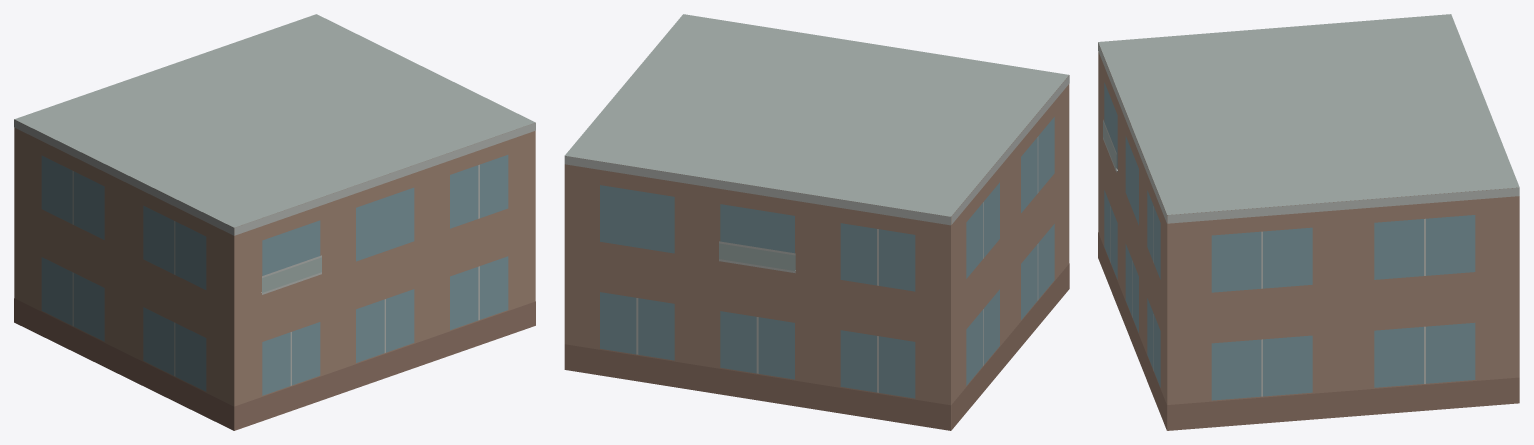
Rendered from survey-upis-32606958.glb.
3 views of the same model, side by side, from view 1: azimuth 30°, elevation 25°; view 2: azimuth 150°, elevation 25°; view 3: azimuth 270°, elevation 25° (orthographic). The views are drawn at different scales.
Visible parts, largest first — view 1: survey-upis-32606958.tmp; view 2: survey-upis-32606958.tmp; view 3: survey-upis-32606958.tmp.
Part boxes in pixels (x1,y1,x2,y2): survey-upis-32606958.tmp: (14, 14, 535, 430); survey-upis-32606958.tmp: (564, 14, 1069, 430); survey-upis-32606958.tmp: (1098, 14, 1519, 430).
Bounding box in the file's own units: 12.2 × 6.1 × 10.81.
